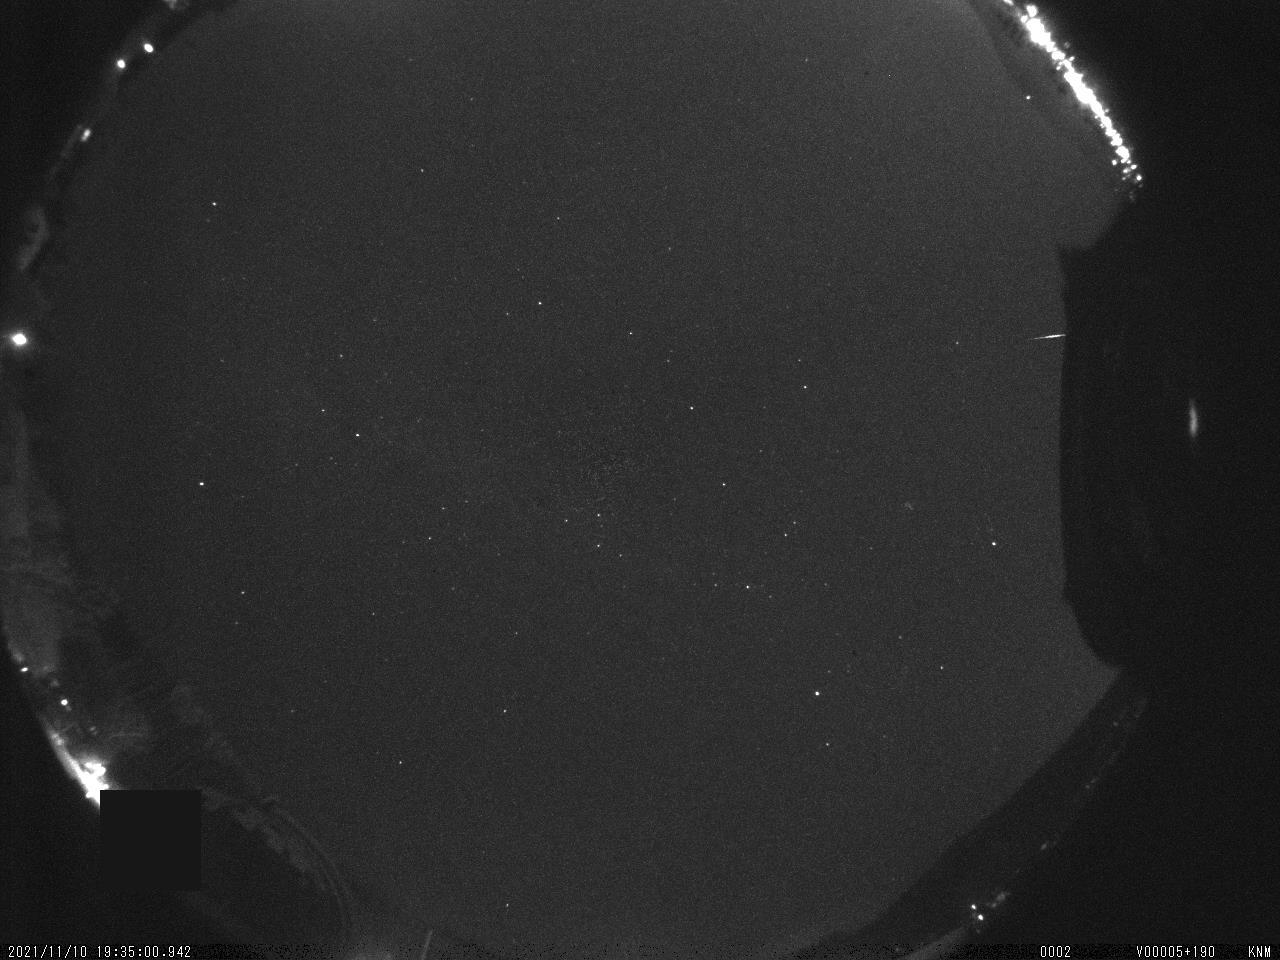meteor: (1027, 323, 1065, 348)
